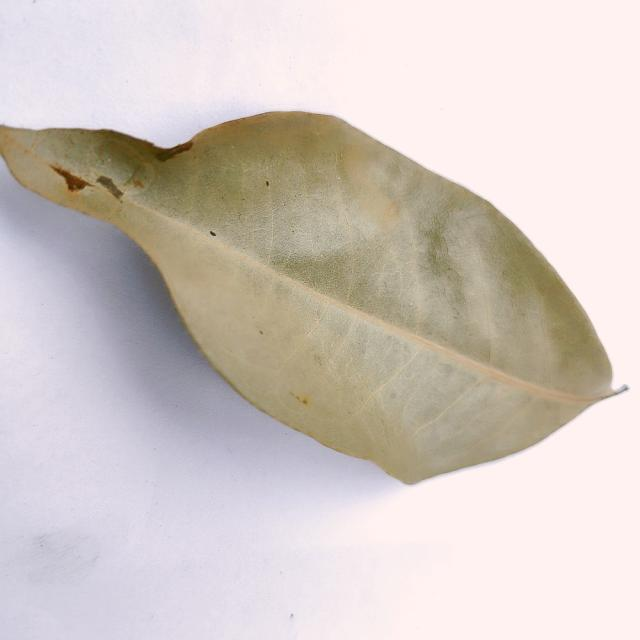Dry_Leaf-Lychee: (0, 111, 630, 488)
